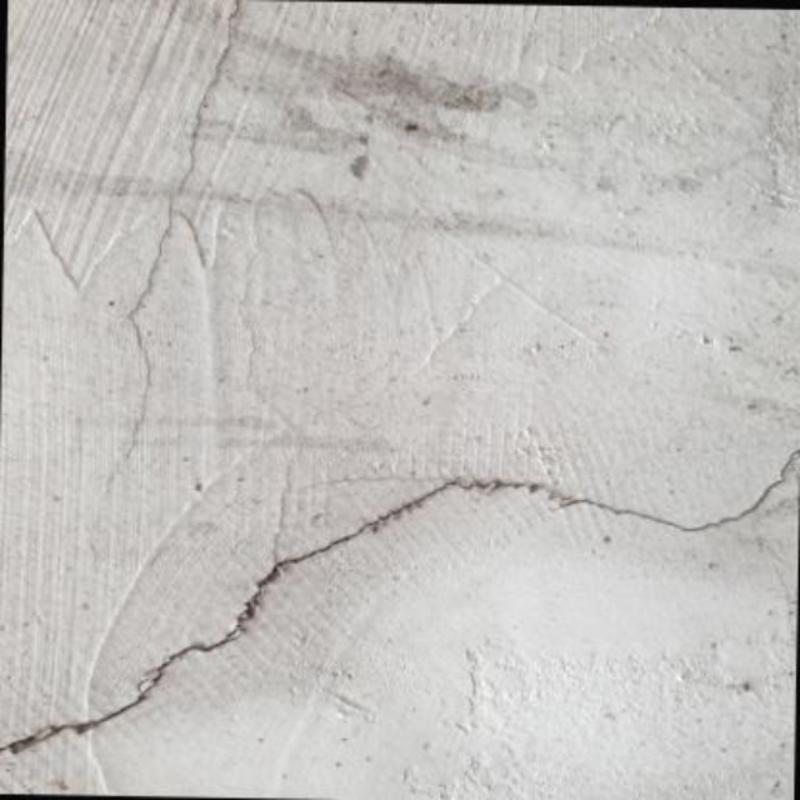pothole: (0, 440, 799, 758)
